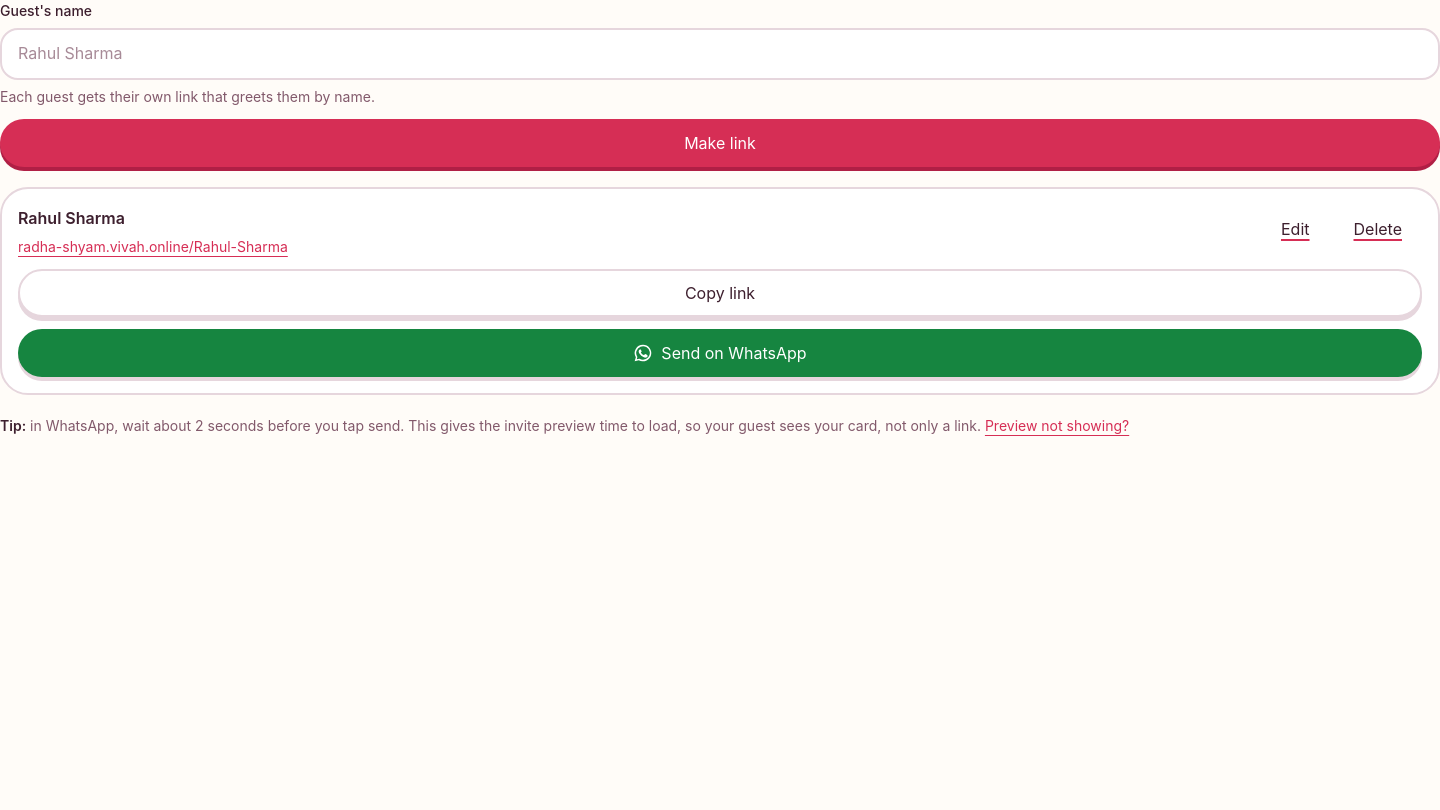
Test: GuestLinks › renames a link with the typed name, and says to send the new link
Click the button with aria-label "Edit Rahul Sharma's link".
click(1295, 229)  # box [1261, 205, 1330, 253]
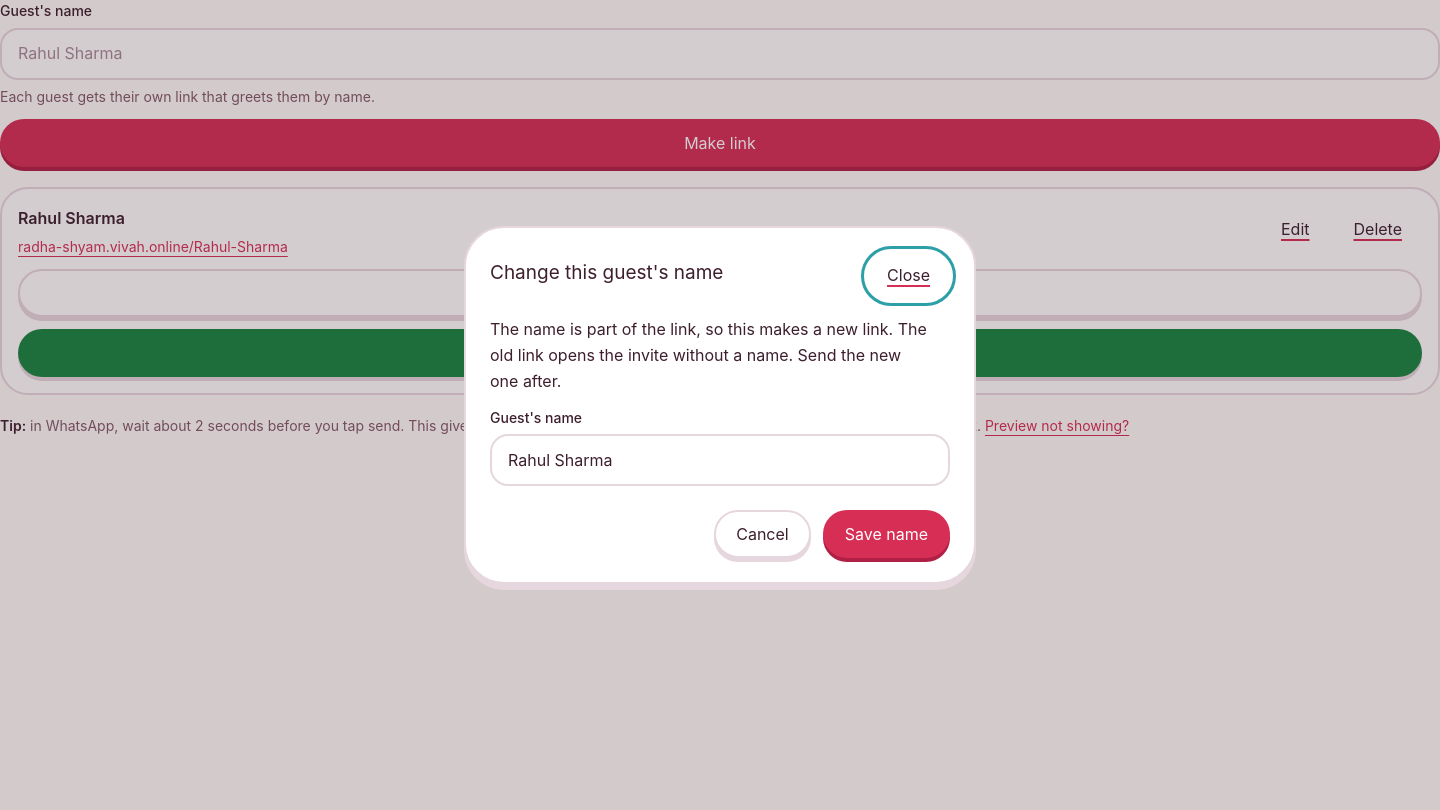
expect the field labelled "Guest's name" holds "Rahul Sharma": met
Replace the text in the field labelled "Guest's name" with "Rahul Verma" at (720, 460), box [490, 434, 950, 486]
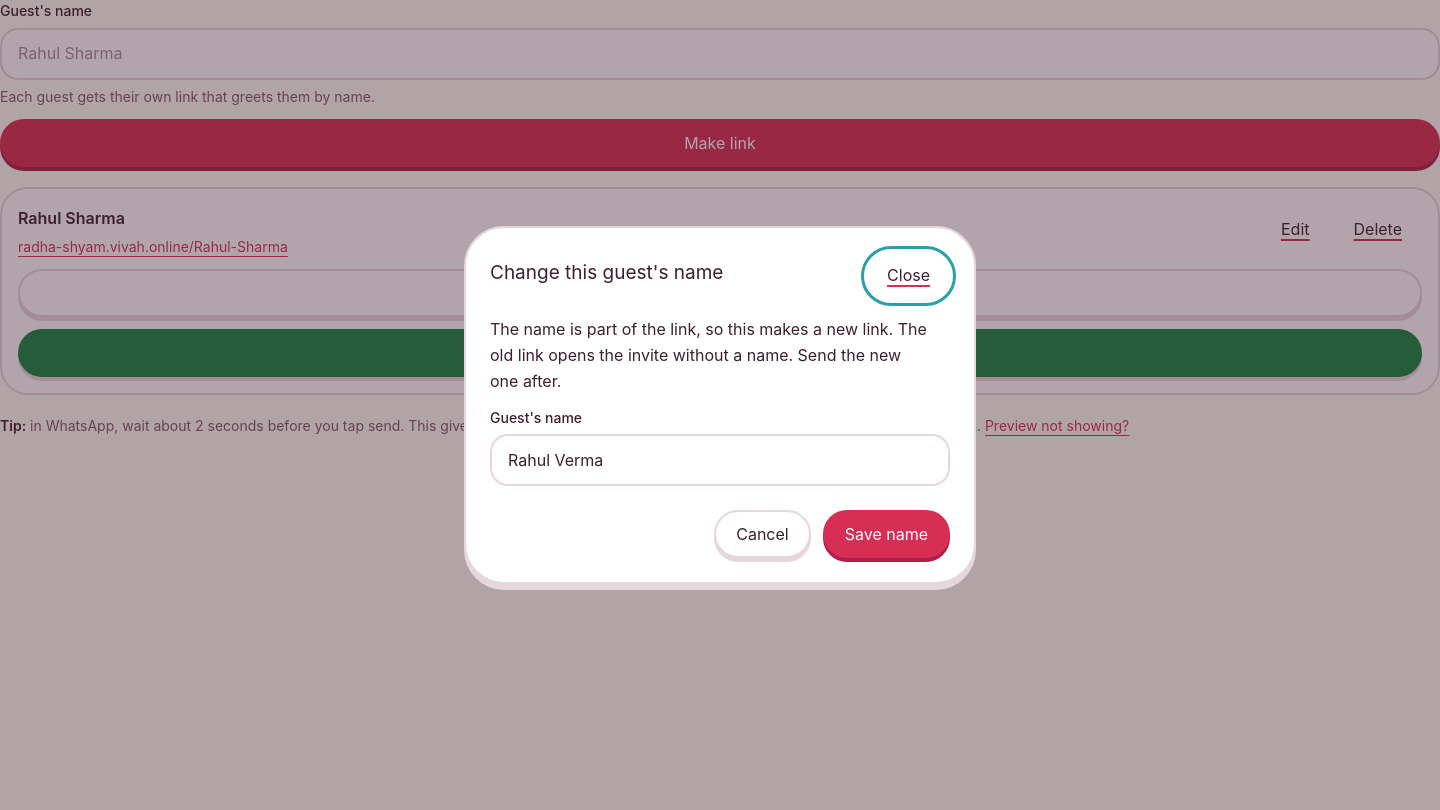
Click the button "Save name".
click(886, 534)  # box [823, 510, 950, 558]
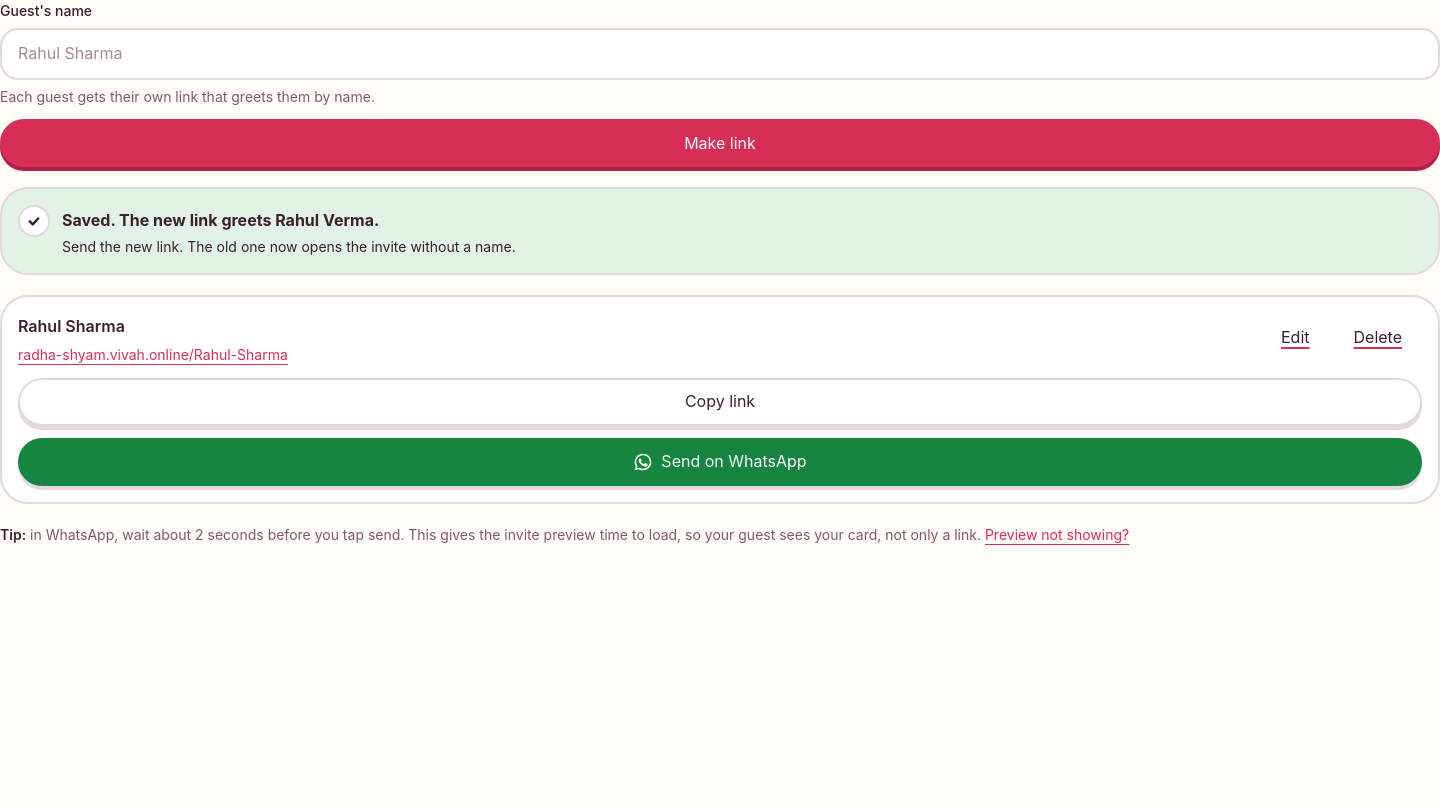
expect the text "Saved. The new link greets Rahul Verma." is shown: met, box [62, 210, 379, 230]
